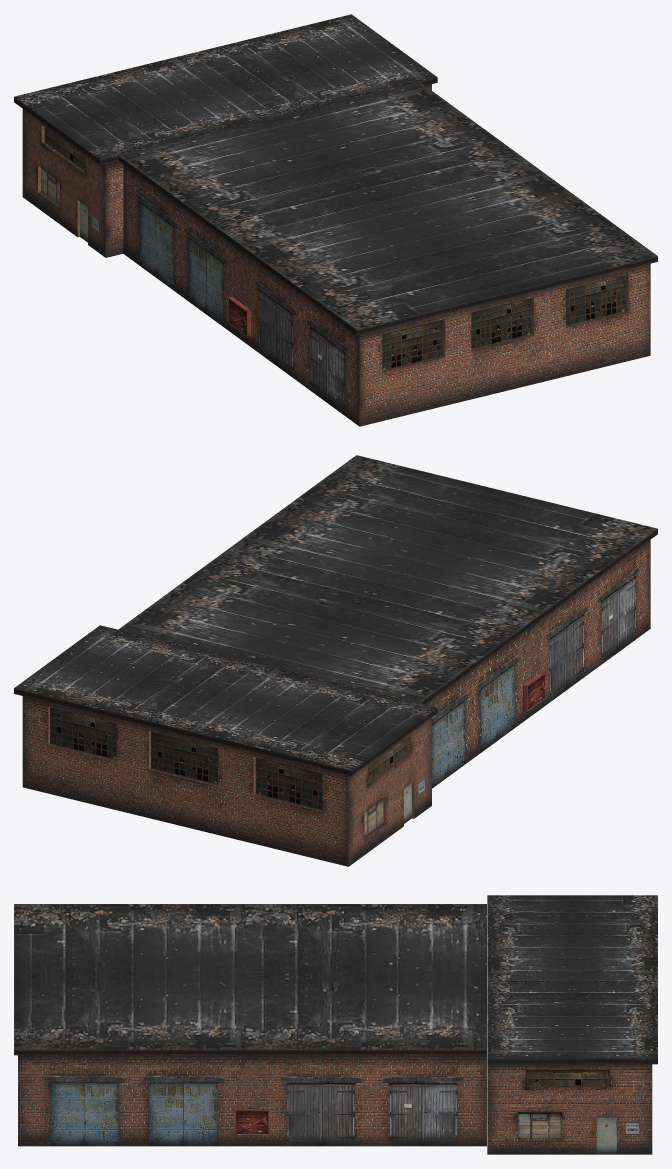
File: sibir_garaz.FBX
3 views of the same model, one above another, from view 1: azimuth 30°, elevation 25°; view 2: azimuth 150°, elevation 25°; view 3: azimuth 270°, elevation 25° (orthographic).
Visible parts, largest first — view 1: sibir_garaz; view 2: sibir_garaz; view 3: sibir_garaz.
Boxes of the visible parts, x1,y1,x2,y2 form: sibir_garaz: (14,14,657,426); sibir_garaz: (14,455,657,866); sibir_garaz: (14,895,657,1154).
Bounding box in the file's own units: 1989 × 3312 × 562.
